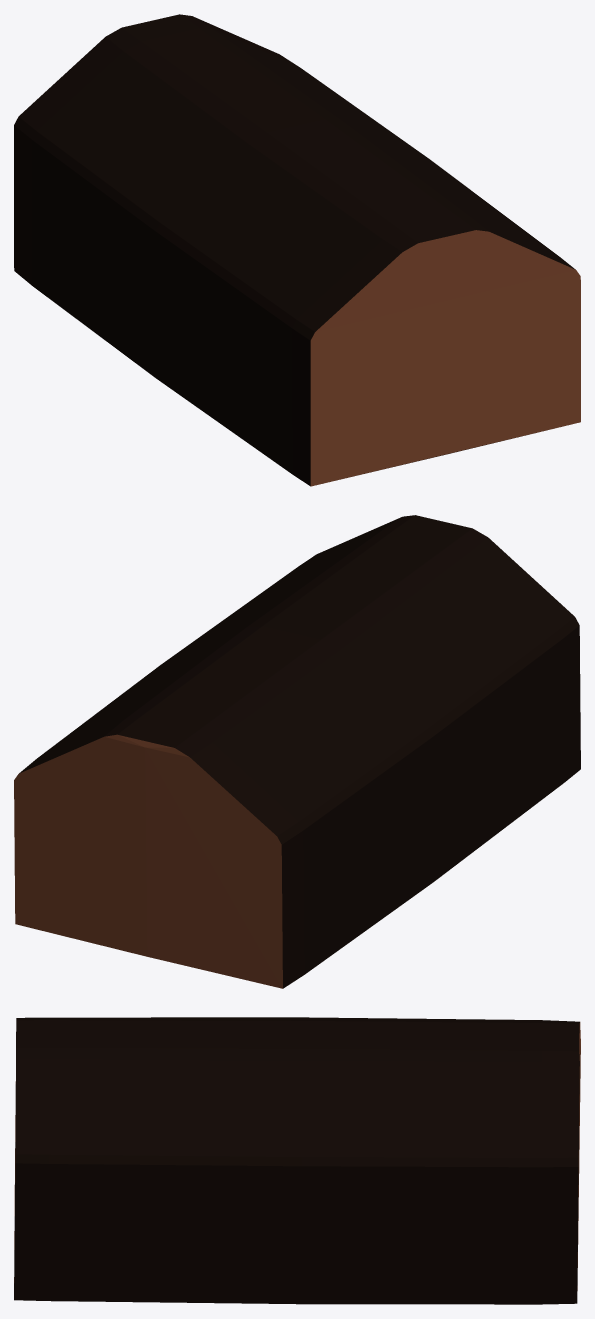
Rendered from Bread03.fbx.
The picture shows the model from 3 angles, top to bottom: view 1: azimuth 30°, elevation 25°; view 2: azimuth 150°, elevation 25°; view 3: azimuth 270°, elevation 25°; orthographic projection. The views are drawn at different scales.
Visible parts, largest first — view 1: Cylinder003; view 2: Cylinder003; view 3: Cylinder003.
Boxes of the visible parts, x1,y1,x2,y2 form: Cylinder003: (14, 14, 580, 486); Cylinder003: (14, 515, 580, 988); Cylinder003: (14, 1017, 580, 1304).
Size of the model in its own units: 15.4 by 11.69 by 28.78.
